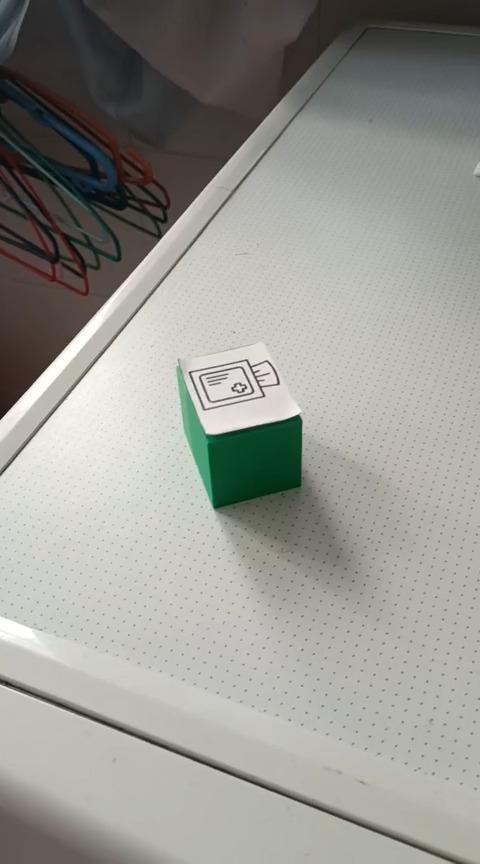Gauze: (174, 340, 303, 509)
